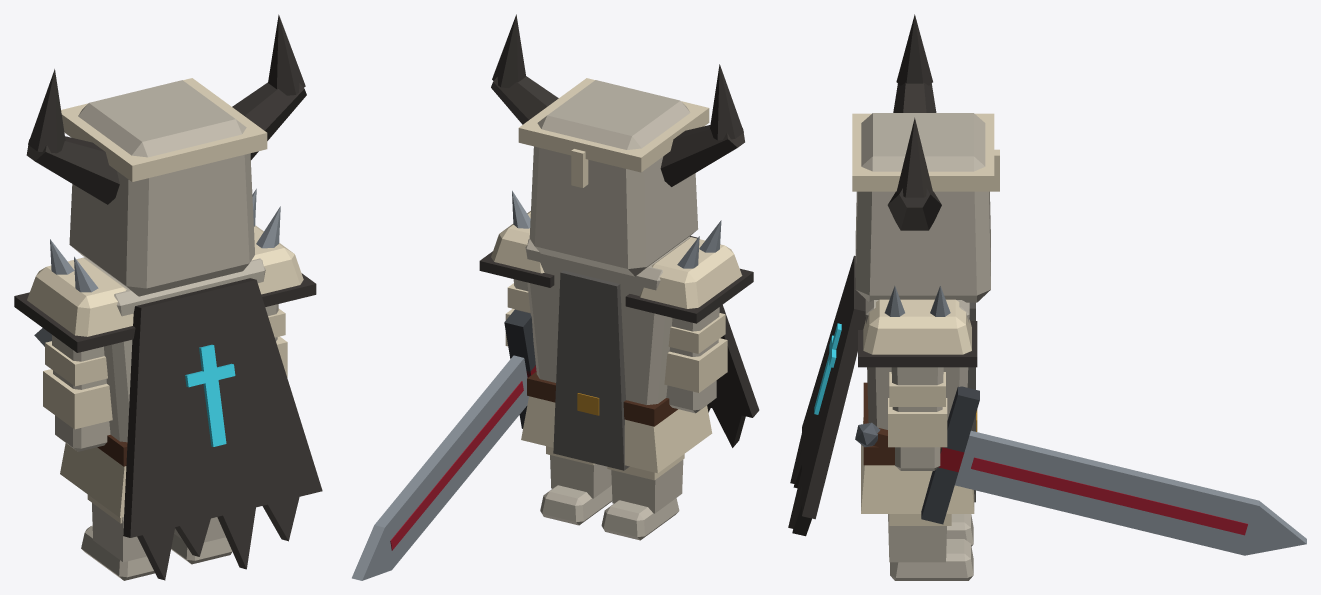
Rendered from CH_BloodKnight_AshenKnight.fbx.
3 views of the same model, side by side, from view 1: azimuth 30°, elevation 25°; view 2: azimuth 150°, elevation 25°; view 3: azimuth 270°, elevation 25° (orthographic). The views are drawn at different scales.
Visible parts, largest first — view 1: Cape, Head, HelmRim, PauldronL, Body, HornL, Faulds, GauntletL, HornR, PauldronRimL, PauldronR, HornTipL (+18 smaller); view 2: Head, Tabard, Blade, Body, Faulds, HelmRim, PauldronL, HornL, Cape, LegL, GauntletL, FootL (+16 smaller); view 3: Head, Blade, Cape, PauldronR, Faulds, HelmRim, Fuller, Guard, Body, GauntletR, LegR, FootR (+10 smaller).
Boxes of the visible parts, x1=… form: Cape: x1=123, y1=278, x2=322, y2=537; Head: x1=69, y1=80, x2=254, y2=296; HelmRim: x1=61, y1=78, x2=267, y2=181; PauldronL: x1=27, y1=258, x2=133, y2=336; Body: x1=70, y1=257, x2=265, y2=442; HornL: x1=26, y1=136, x2=119, y2=204; Faulds: x1=60, y1=443, x2=126, y2=517; GauntletL: x1=43, y1=369, x2=112, y2=429; HornR: x1=232, y1=82, x2=306, y2=159; PauldronRimL: x1=14, y1=292, x2=135, y2=352; PauldronR: x1=252, y1=225, x2=303, y2=294; HornTipL: x1=28, y1=69, x2=65, y2=153; Head: x1=529, y1=80, x2=698, y2=276; Tabard: x1=553, y1=270, x2=629, y2=470; Blade: x1=352, y1=355, x2=528, y2=580; Body: x1=525, y1=236, x2=696, y2=404; Faulds: x1=521, y1=396, x2=712, y2=473; HelmRim: x1=518, y1=78, x2=709, y2=172; PauldronL: x1=639, y1=237, x2=742, y2=308; HornL: x1=660, y1=125, x2=744, y2=186; Cape: x1=690, y1=236, x2=759, y2=417; LegL: x1=611, y1=460, x2=683, y2=513; GauntletL: x1=664, y1=338, x2=727, y2=392; FootL: x1=601, y1=498, x2=679, y2=540; Head: x1=855, y1=113, x2=990, y2=302; Blade: x1=955, y1=430, x2=1306, y2=555; Cape: x1=802, y1=255, x2=865, y2=519; PauldronR: x1=863, y1=299, x2=971, y2=354; Faulds: x1=861, y1=417, x2=974, y2=513; HelmRim: x1=852, y1=113, x2=994, y2=191; Fuller: x1=971, y1=457, x2=1247, y2=535; Guard: x1=921, y1=386, x2=979, y2=524; Body: x1=865, y1=299, x2=969, y2=429; GauntletR: x1=888, y1=398, x2=947, y2=447; LegR: x1=888, y1=514, x2=946, y2=562; FootR: x1=890, y1=539, x2=973, y2=580.
Size of the model in its own units: 1.05 by 1.83 by 1.91.
